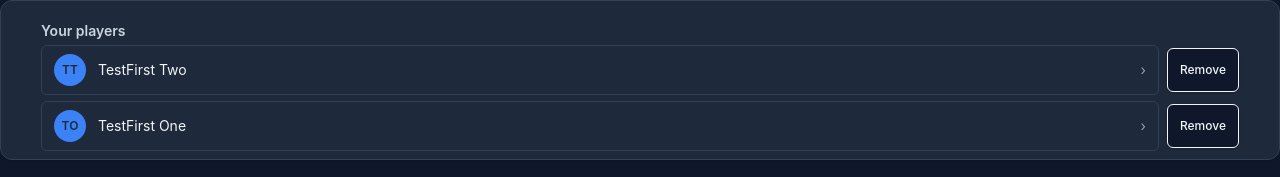
PlayerSwitcher — chooser variant (/signup) › arming remove on one player resets a previously-armed remove on another
The width and height of the screenshot is (1280, 177).
Click the button with aria-label "Remove TestFirst One from this device": click(1203, 126) [1167,104,1239,148]
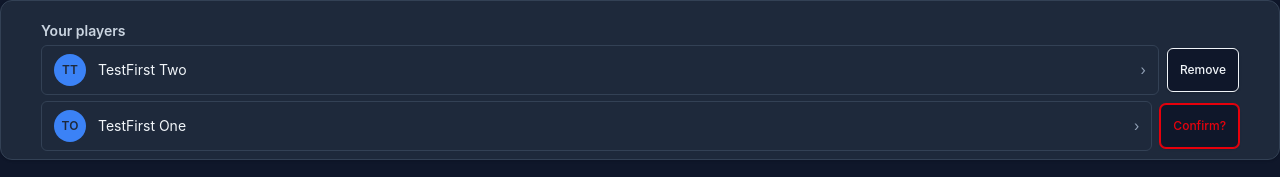
Click the button with aria-label "Remove TestFirst Two from this device": click(1203, 70) [1167,48,1239,92]
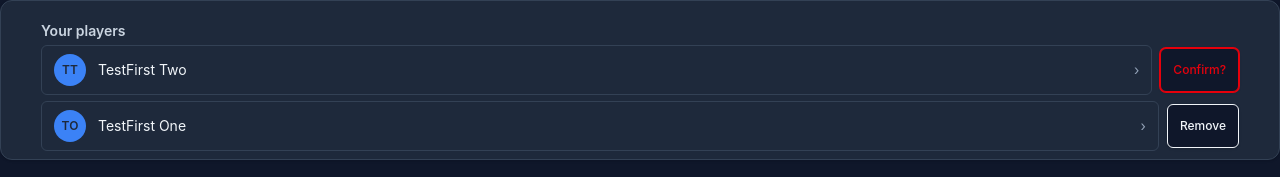
expect the button with aria-label "Remove TestFirst One from this device" is shown: met, box [1167,104,1239,148]
expect the button with aria-label "Confirm removing TestFirst Two from this device" is shown: met, box [1160,48,1239,92]
